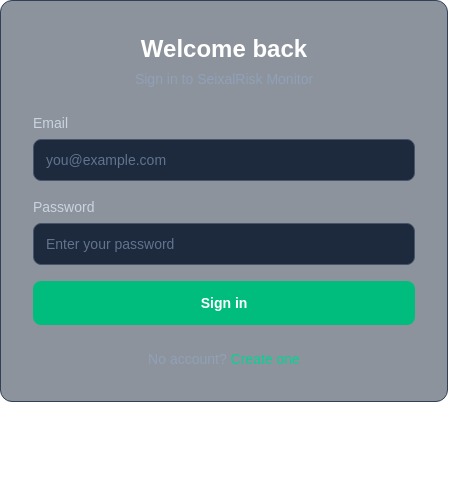
Test: LoginPage › shows generic error message when error is not an Error instance
Type "bad@example.com" into the field labelled "Email". click: (224, 160)
box: [33, 139, 415, 181]
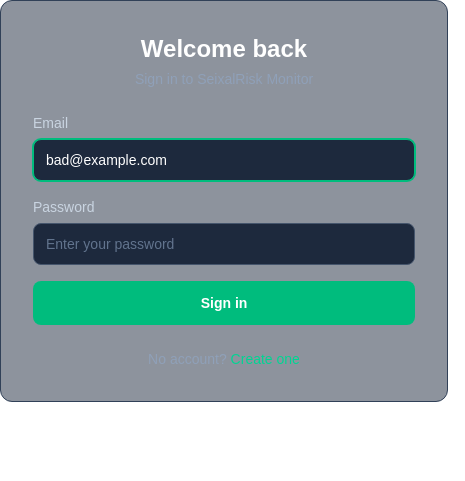
Type "wrong" into the password field labelled "Password". click: (224, 244)
box: [33, 223, 415, 265]
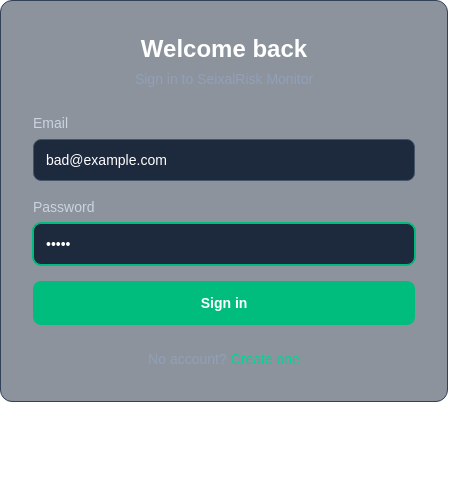
Click the button "Sign in". click: click(224, 303)
box: [33, 281, 415, 325]
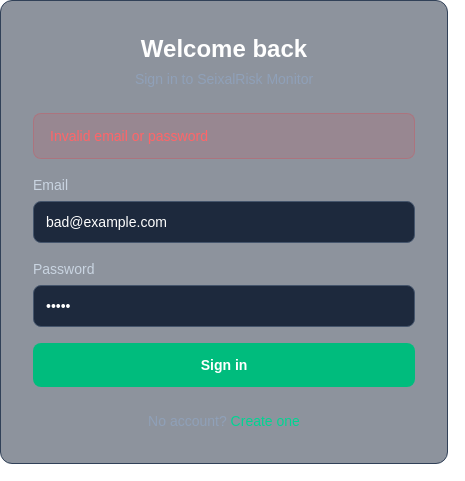
Expected: the text "Invalid email or password" is shown, [33, 113, 415, 159]
